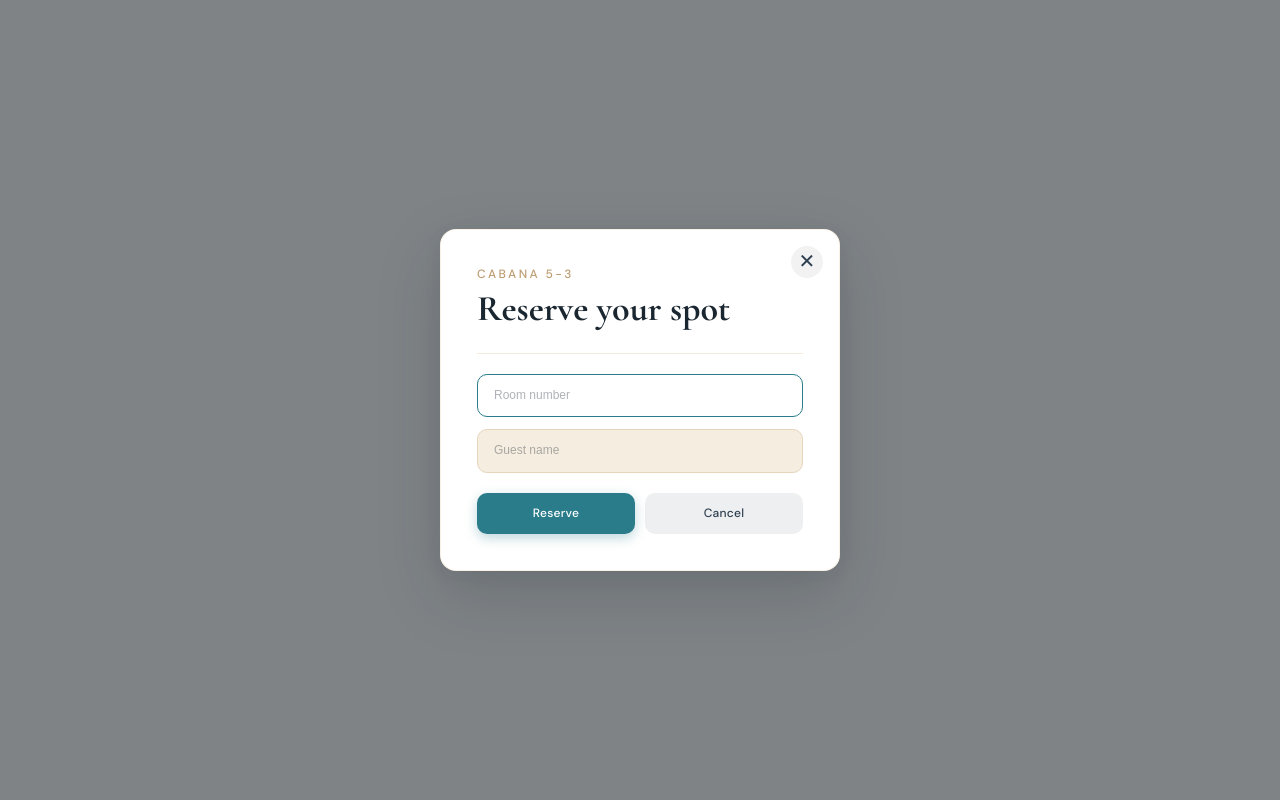
Scenario: CabanaModal › shows API error for invalid data
Type "999" into the field with placeholder "Room number" at (640, 396), box [477,374,803,417]
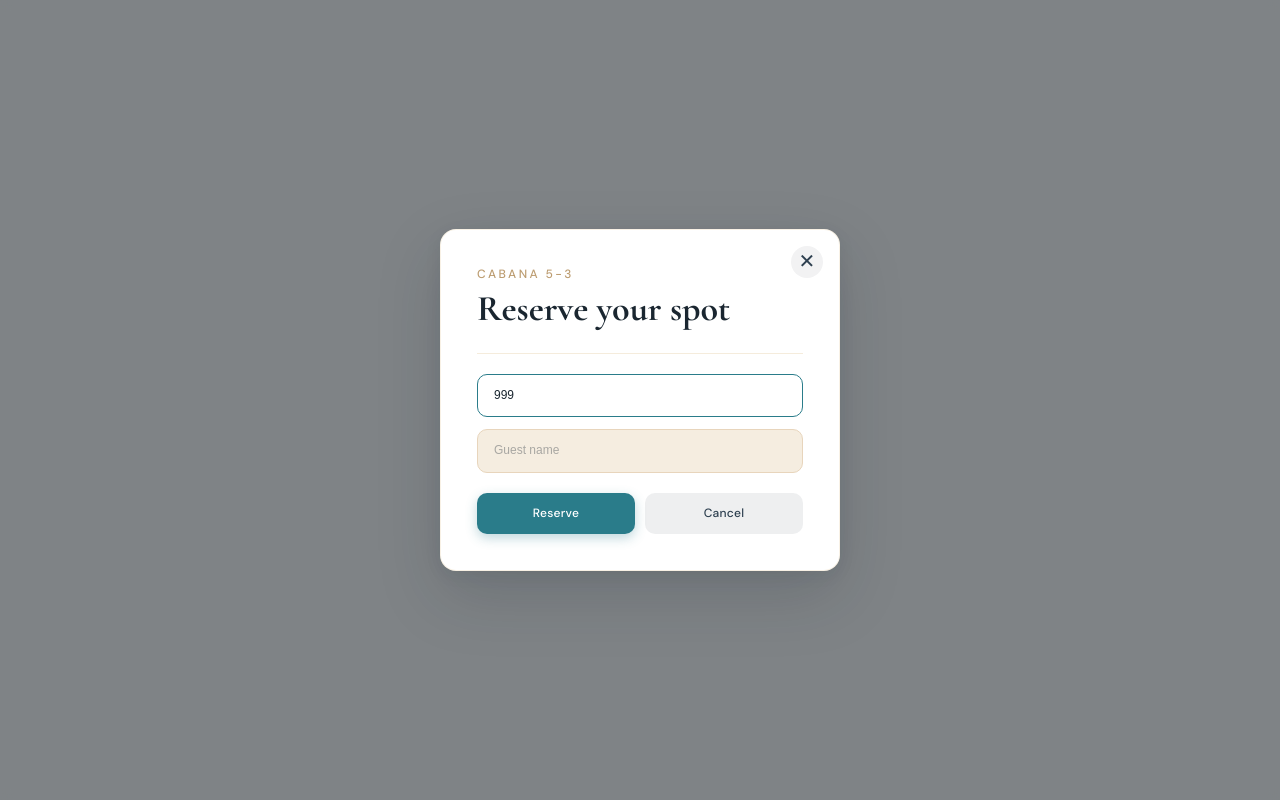
Type "Nobody" into the field with placeholder "Guest name" at (640, 451), box [477,429,803,473]
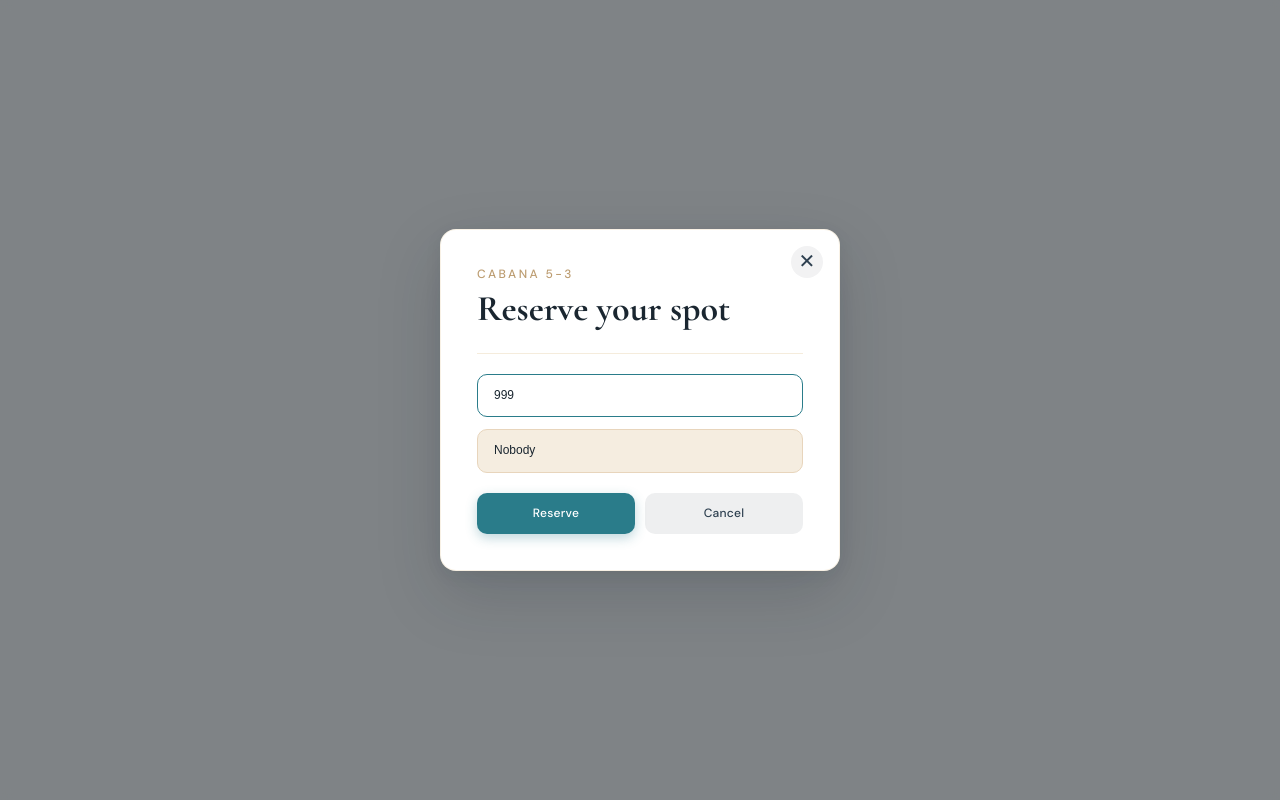
Click the button "Reserve" at (556, 513), box [477,493,635,534]
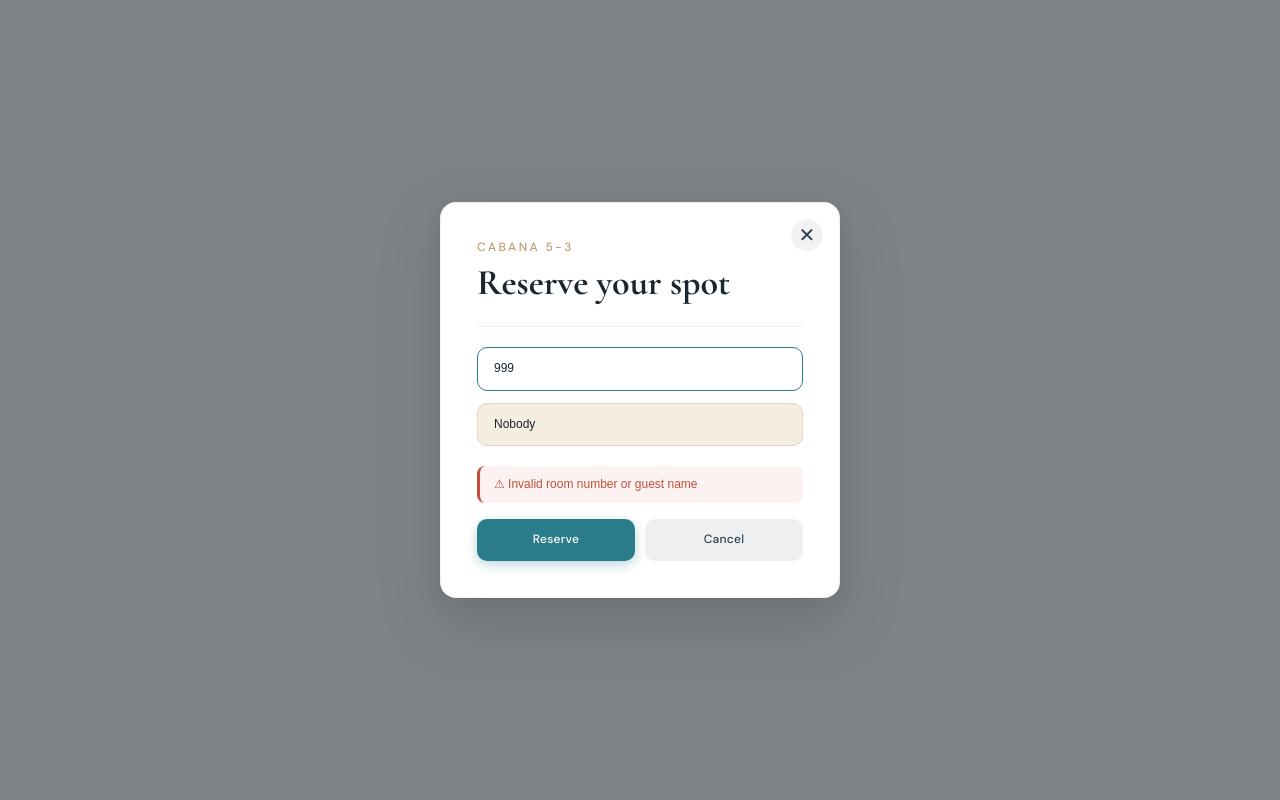
Expected: the text "⚠ Invalid room number or guest name" is shown, [477,466,803,503]
